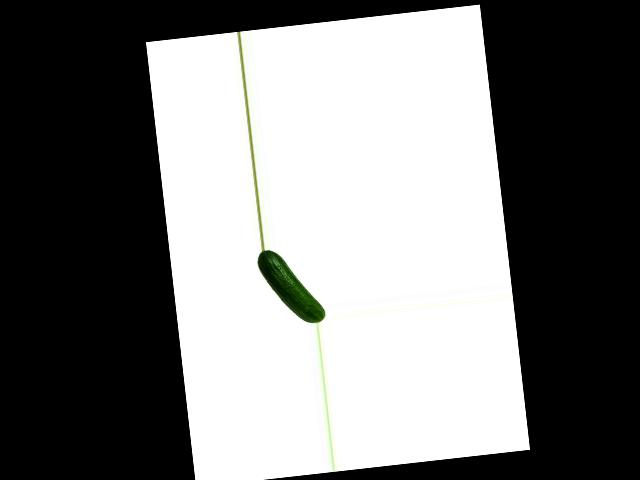cucumber: (255, 243, 325, 329)
